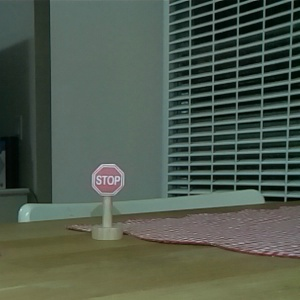stop sign: (88, 161, 126, 241)
